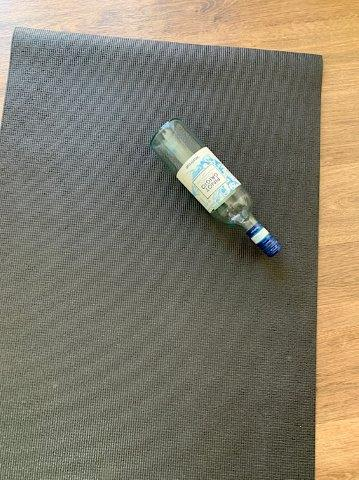botolkaca: (149, 118, 284, 258)
